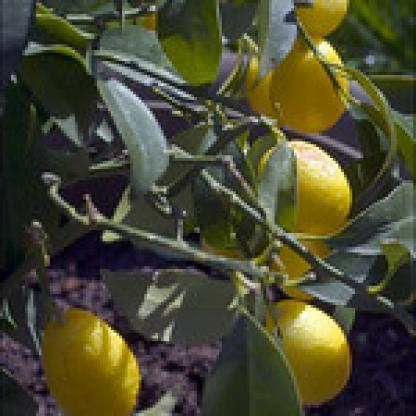lemon: (42, 308, 140, 416), (257, 140, 353, 236), (266, 300, 352, 406), (268, 36, 350, 135), (294, 0, 348, 38)
